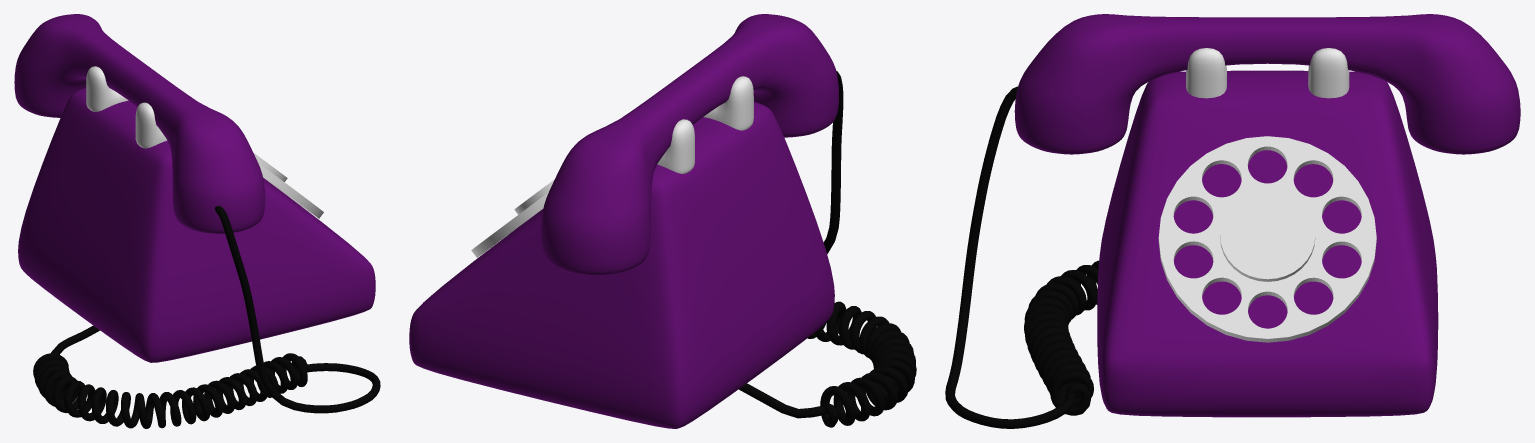
The model's file is phone.glb.
3 views of the same model, side by side, from view 1: azimuth 30°, elevation 25°; view 2: azimuth 150°, elevation 25°; view 3: azimuth 270°, elevation 25° (orthographic). The views are drawn at different scales.
Parts seen in each view (by area): view 1: Phone_base, Phone, Spiral.001, Phone_holders, Circle; view 2: Phone_base, Phone, Spiral.001, Phone_holders, Circle; view 3: Phone_base, Phone, Circle, Spiral.001, Phone_holders.
Boxes of the visible parts, bbox=[...] form: Phone_base: bbox=[18, 88, 375, 362]; Phone: bbox=[14, 14, 265, 233]; Spiral.001: bbox=[33, 206, 380, 428]; Phone_holders: bbox=[86, 66, 167, 148]; Circle: bbox=[253, 152, 323, 218]; Phone_base: bbox=[409, 101, 834, 428]; Phone: bbox=[540, 14, 838, 275]; Spiral.001: bbox=[739, 71, 916, 427]; Phone_holders: bbox=[657, 76, 753, 173]; Circle: bbox=[471, 179, 554, 257]; Phone_base: bbox=[1097, 70, 1438, 417]; Phone: bbox=[1014, 14, 1520, 154]; Circle: bbox=[1158, 136, 1376, 342]; Spiral.001: bbox=[945, 86, 1098, 428]; Phone_holders: bbox=[1186, 48, 1349, 98].
Bounding box in the file's own units: 1.74 × 1.5 × 2.25.
